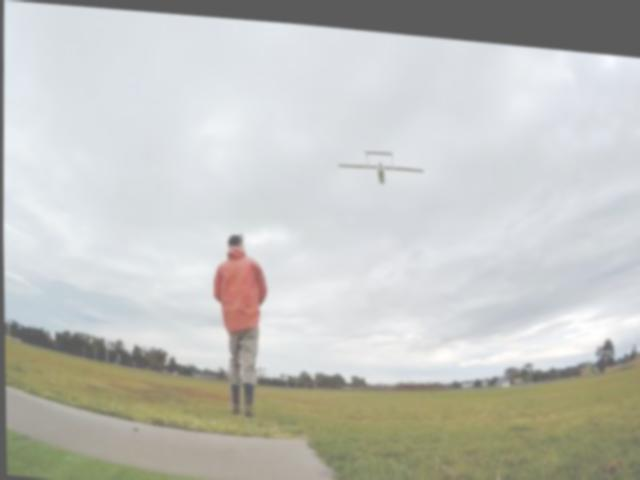uav: (336, 130, 424, 183)
